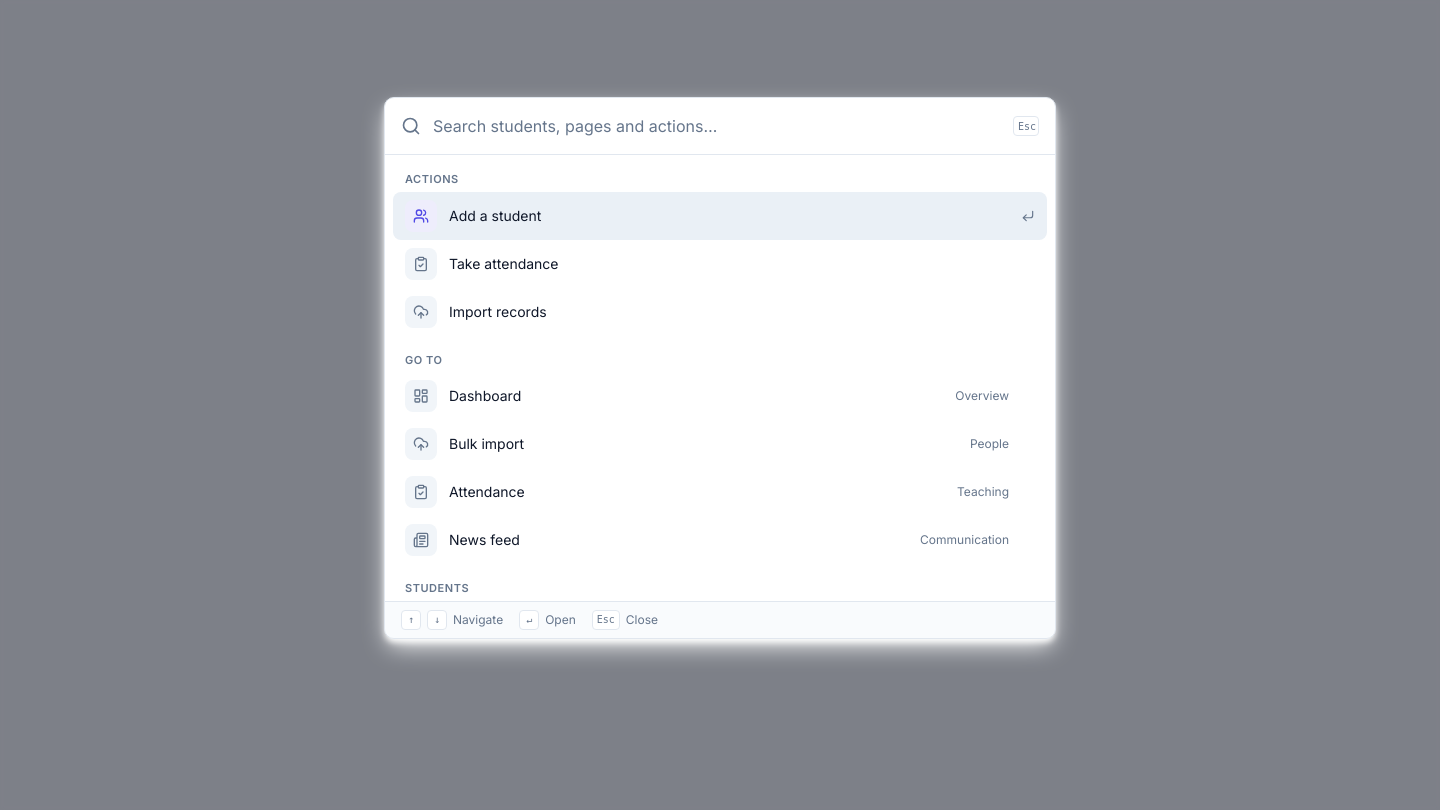
CommandPalette › shows matching students with their admission number and class, after the actions and pages
Type "chidi" into the dropdown named "command palette search" at (717, 126), box [433,98,1001,154]
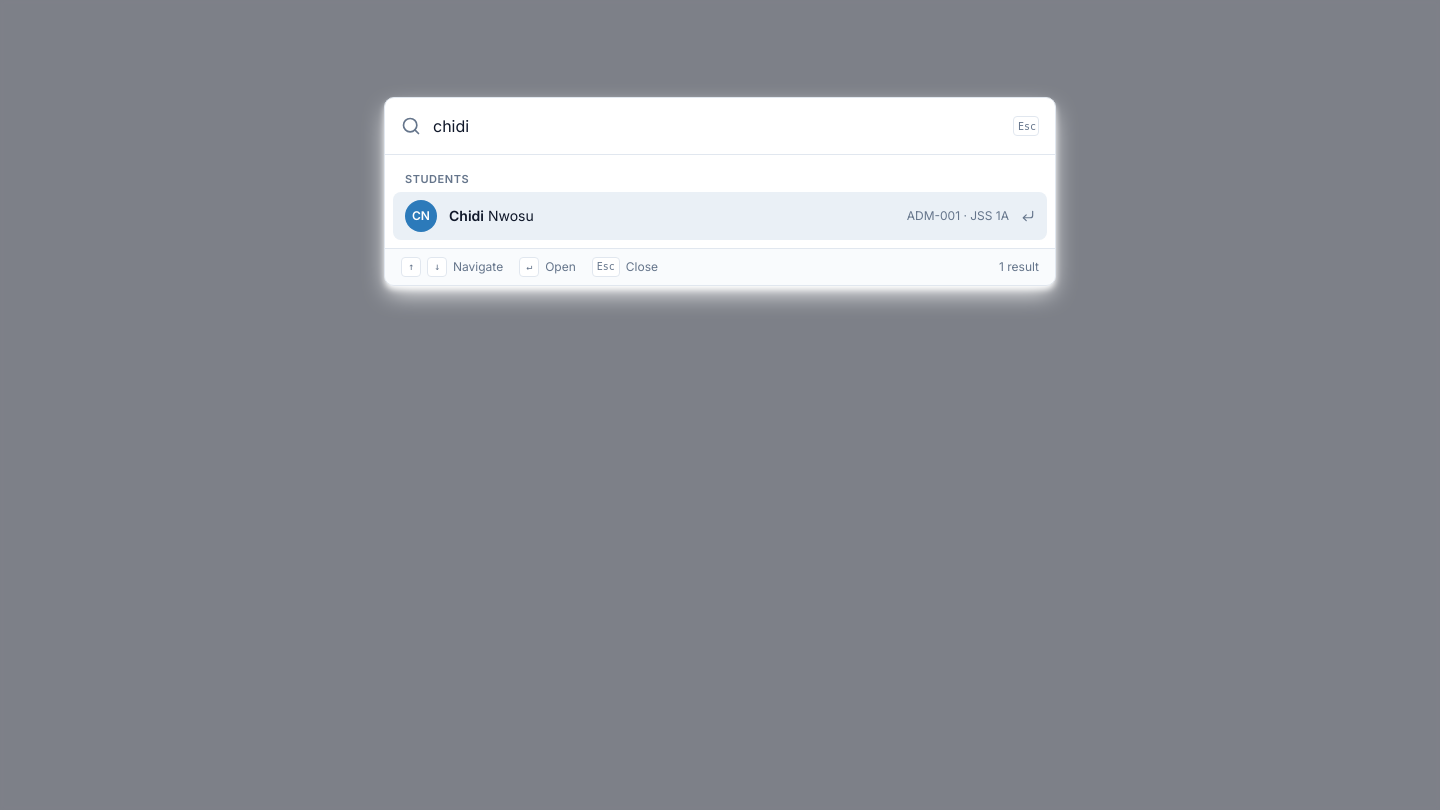
Check: the text "Students" is shown, box [405,172,469,186]
Check: the option "CN Chidi Nwosu ADM-001 · JSS 1A" is shown, box [393,192,1047,240]
